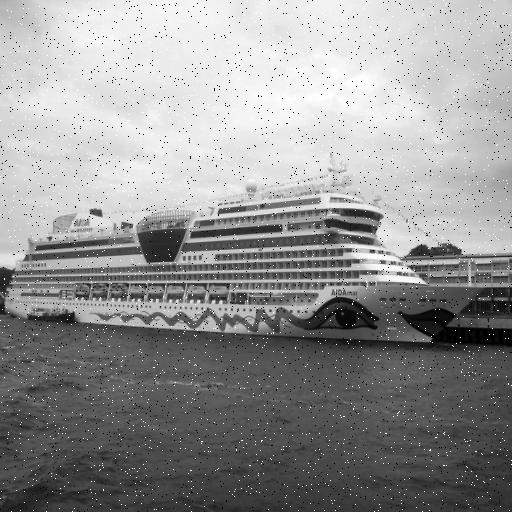cruises: (4, 167, 487, 350)
